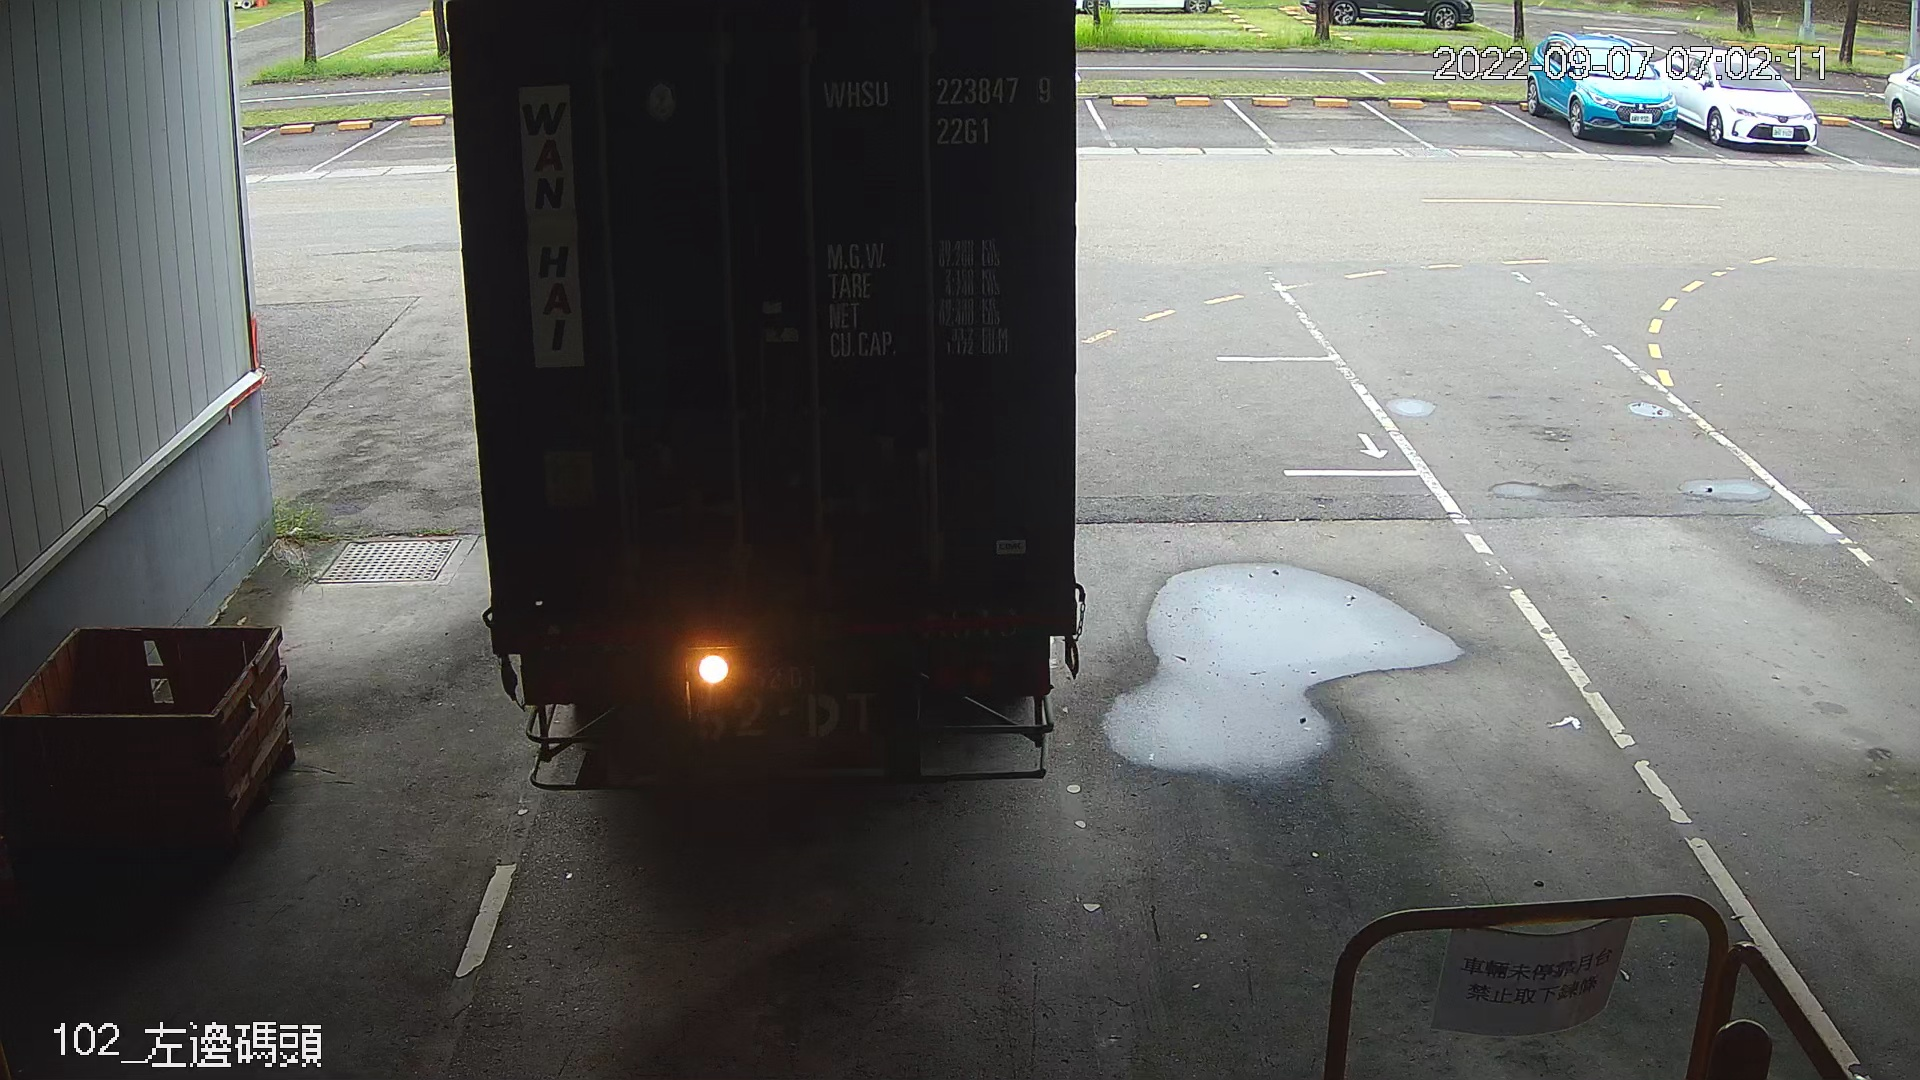container: (814, 63, 1064, 158)
